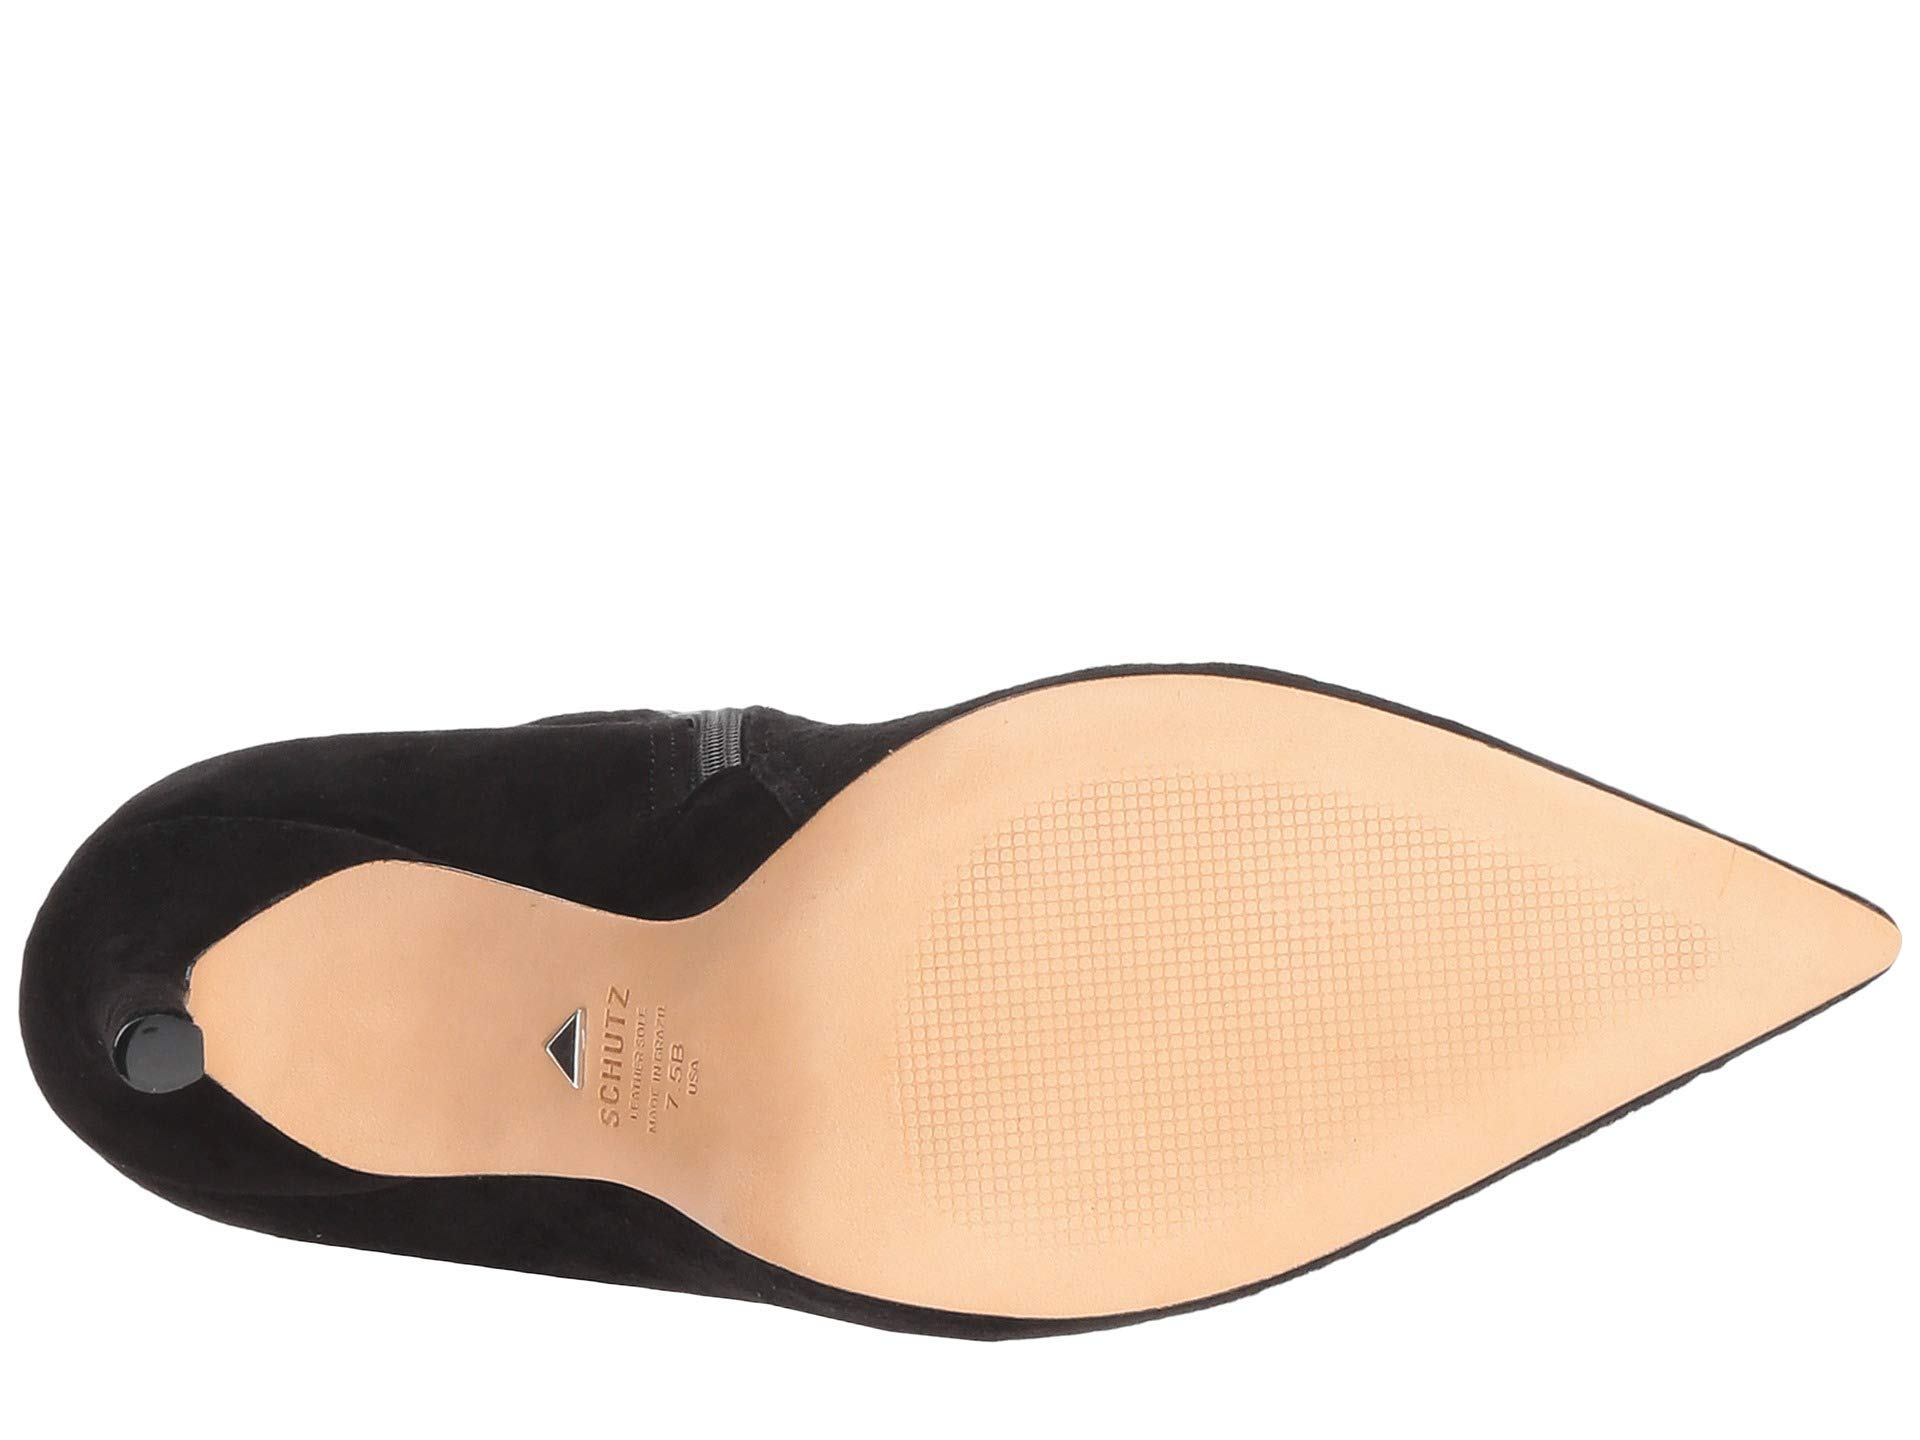circle: (110, 1003, 213, 1101)
exclude: (221, 656, 851, 1336)
quad: (1010, 784, 1463, 1153)
